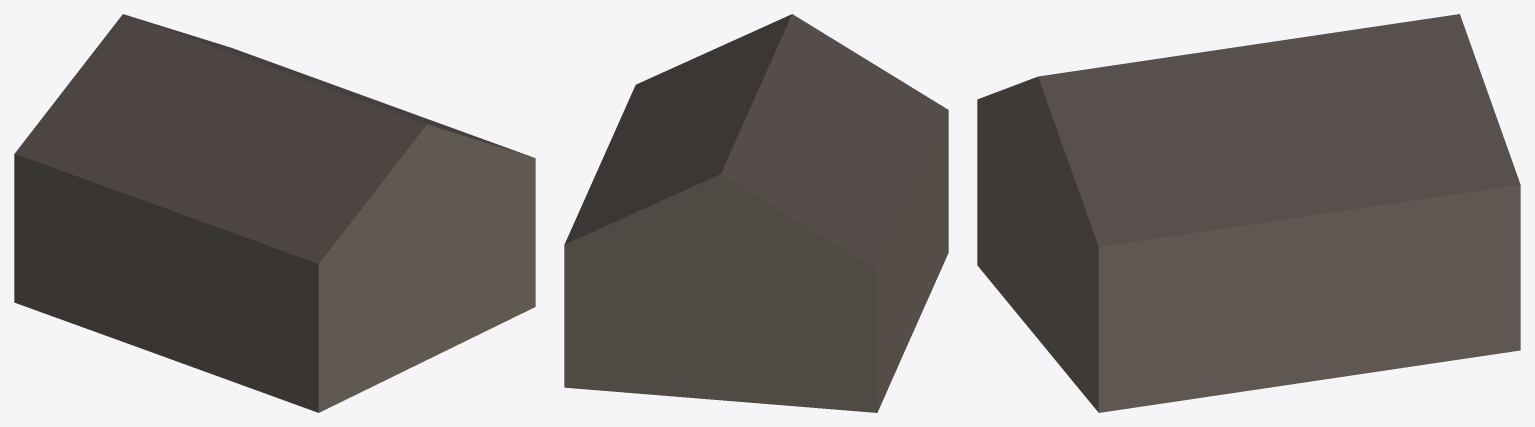
3 views of the same model, side by side, from view 1: azimuth 30°, elevation 25°; view 2: azimuth 150°, elevation 25°; view 3: azimuth 270°, elevation 25° (orthographic). The views are drawn at different scales.
Visible parts, largest first — view 1: HP-w1376988774; view 2: HP-w1376988774; view 3: HP-w1376988774.
Part boxes in pixels (x1,y1,x2,y2): HP-w1376988774: (14,14,535,412); HP-w1376988774: (564,14,948,412); HP-w1376988774: (977,14,1520,412).
Size of the model in its own units: 16.3 by 9.5 by 17.81.
